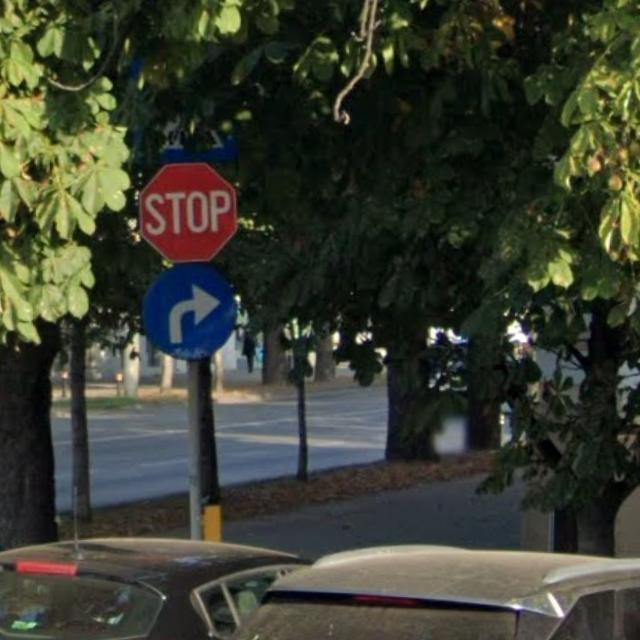prio_stop: (138, 157, 238, 264)
